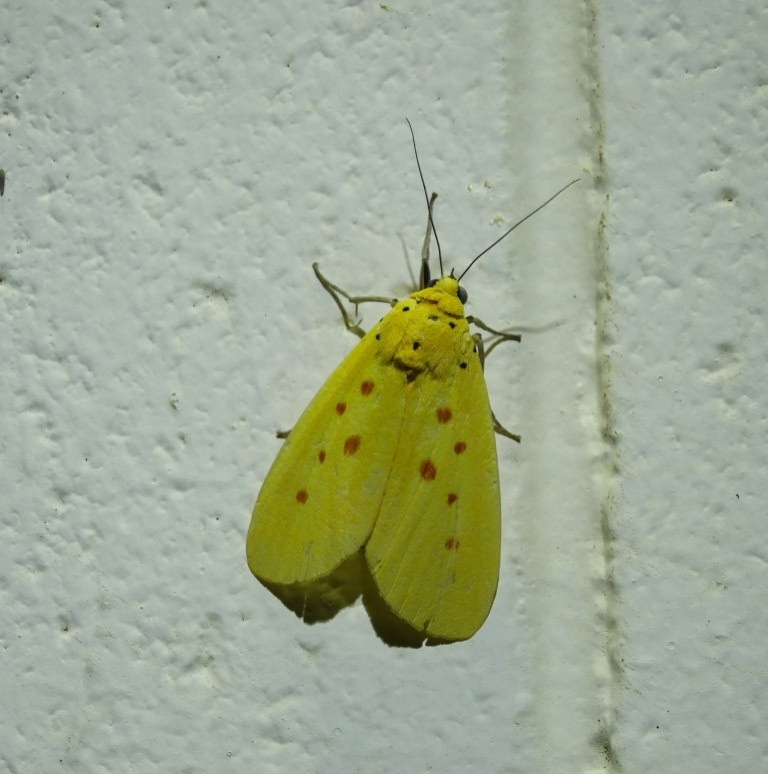Agape chloropyga: (244, 115, 584, 645)
moth: (242, 113, 582, 643)
